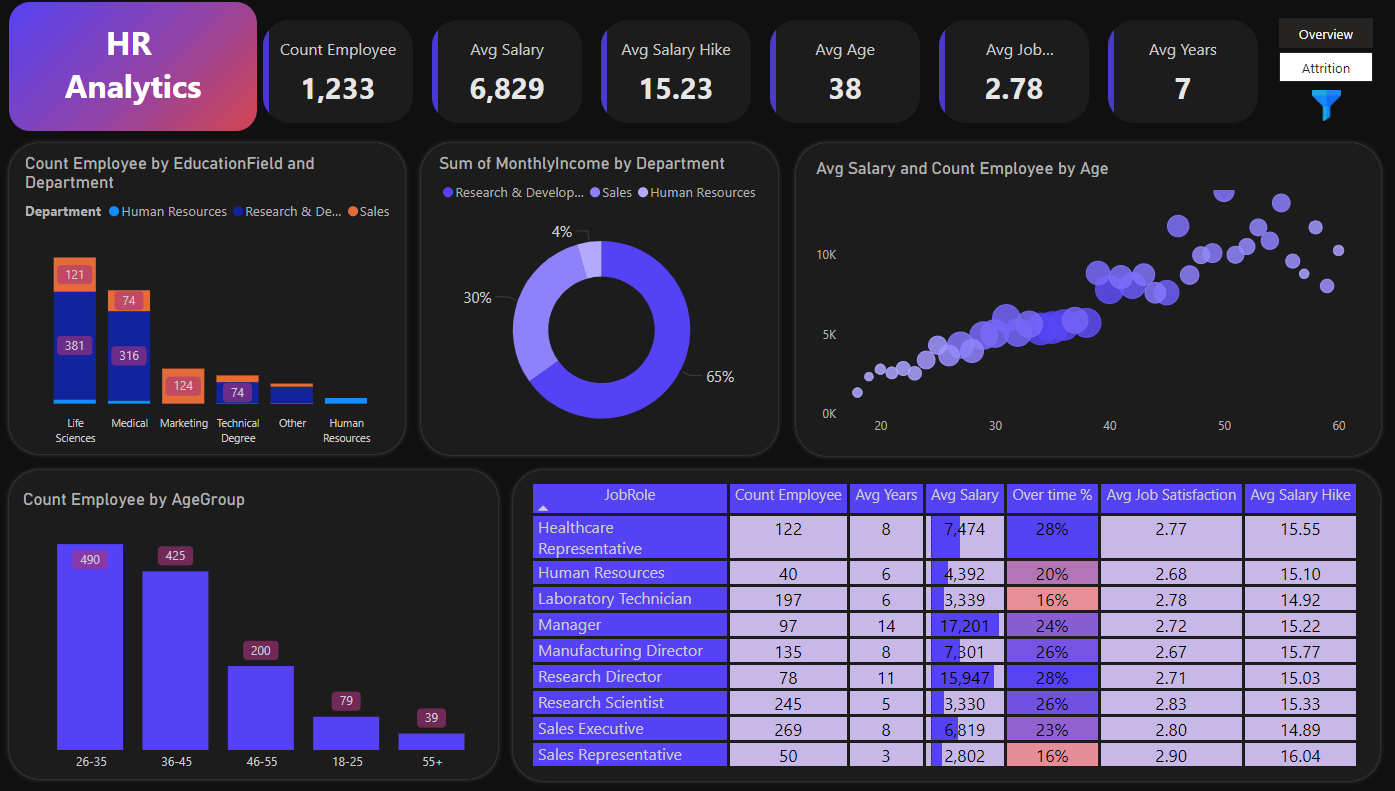

This screenshot's page, from the dashboard's own definition file:
{"tool":"powerbi","page":{"name":"Overview","canvas":[1400,800],"ordinal":0},"visuals":[{"type":"cardVisual","fields":{"Data":["_Measures.Count Employee","_Measures.Avg Salary","_Measures.Avg Salary Hike","_Measures.Avg Age","_Measures.Avg Job Satisfaction","_Measures.Avg Years"]},"box":[262,20,1010,113],"z":0},{"type":"shape","box":[420,143.2,367.1,321.9],"z":0,"group":"g3"},{"type":"shape","box":[795,143.2,595.3,323],"z":0,"group":"g4"},{"type":"shape","box":[7.7,143.3,405.7,320.8],"z":0,"group":"g1"},{"type":"shape","box":[7.9,470,499.4,318.6],"z":0,"group":"g2"},{"type":"shape","box":[512.1,470,877.5,320.8],"z":0,"group":"g5"},{"type":"group","id":"g1","title":"Group 1","box":[7.7,143.3,405.7,320.8],"z":1000},{"type":"donutChart","fields":{"Category":["HR_Analytics.Department"],"Y":["Sum(HR_Analytics.MonthlyIncome)"]},"box":[437.6,158.4,335.1,305.4],"z":1000,"group":"g3"},{"type":"columnChart","fields":{"Y":["_Measures.Count Employee"],"Category":["HR_Analytics.EducationField"],"Series":["HR_Analytics.Department"]},"box":[23.2,158.7,375.9,299.8],"z":1000,"group":"g1"},{"type":"scatterChart","fields":{"X":["HR_Analytics.Age"],"Y":["_Measures.Avg Salary"],"Size":["_Measures.Count Employee"]},"box":[814.8,162.9,551.2,286.6],"z":1000,"group":"g4"},{"type":"pivotTable","fields":{"Rows":["HR_Analytics.JobRole"],"Values":["_Measures.Count Employee","_Measures.Avg Years","_Measures.Avg Salary","_Measures.Over time %","_Measures.Avg Job Satisfaction","_Measures.Avg Salary Hike"]},"box":[528.6,481,848.8,298.7],"z":1000,"group":"g5"},{"type":"columnChart","fields":{"Y":["_Measures.Count Employee"],"Category":["HR_Analytics.AgeGroup"]},"box":[22.3,494.3,487.2,291],"z":1000,"group":"g2"},{"type":"group","id":"g2","title":"count emp by Age group","box":[7.9,470,501.7,318.6],"z":2000},{"type":"group","id":"g3","title":"MonthlyIncome by Department","box":[420,143.2,367.1,321.9],"z":4000},{"type":"group","id":"g4","title":"Avg Salary and Count Emp by Age","box":[795,143.2,595.3,323],"z":5000},{"type":"group","id":"g5","title":"Table","box":[512.1,470,877.5,320.8],"z":6000},{"type":"image","title":"icon filter ","box":[1309.6,88.2,41.9,45.2],"z":8000},{"type":"image","box":[7.7,0,258,143.3],"z":9000},{"type":"textbox","box":[27.6,19.8,218.3,102.5],"z":10000},{"type":"pageNavigator","box":[1283.1,23.1,93.7,65],"z":11000}]}

Visuals, with their boxes in screenshot pixels (x1, y1, x2, y2), scaled from the page's 1400x800 canvas onto the 1395x791 screenshot:
cardVisual - _Measures.Count Employee x _Measures.Avg Salary: 261,20,1267,132
shape: 418,142,784,460
shape: 792,142,1385,461
shape: 8,142,412,459
shape: 8,465,505,780
shape: 510,465,1385,782
"Group 1" group: 8,142,412,459
donutChart - HR_Analytics.Department x Sum(HR_Analytics.MonthlyIncome): 436,157,770,459
columnChart - _Measures.Count Employee x HR_Analytics.EducationField: 23,157,398,453
scatterChart - HR_Analytics.Age x _Measures.Avg Salary: 812,161,1361,444
pivotTable - HR_Analytics.JobRole x _Measures.Count Employee: 527,476,1372,771
columnChart - _Measures.Count Employee x HR_Analytics.AgeGroup: 22,489,508,776
"count emp by Age group" group: 8,465,508,780
"MonthlyIncome by Department" group: 418,142,784,460
"Avg Salary and Count Emp by Age" group: 792,142,1385,461
"Table" group: 510,465,1385,782
"icon filter " image: 1305,87,1347,132
image: 8,0,265,142
textbox: 28,20,245,121
pageNavigator: 1279,23,1372,87
